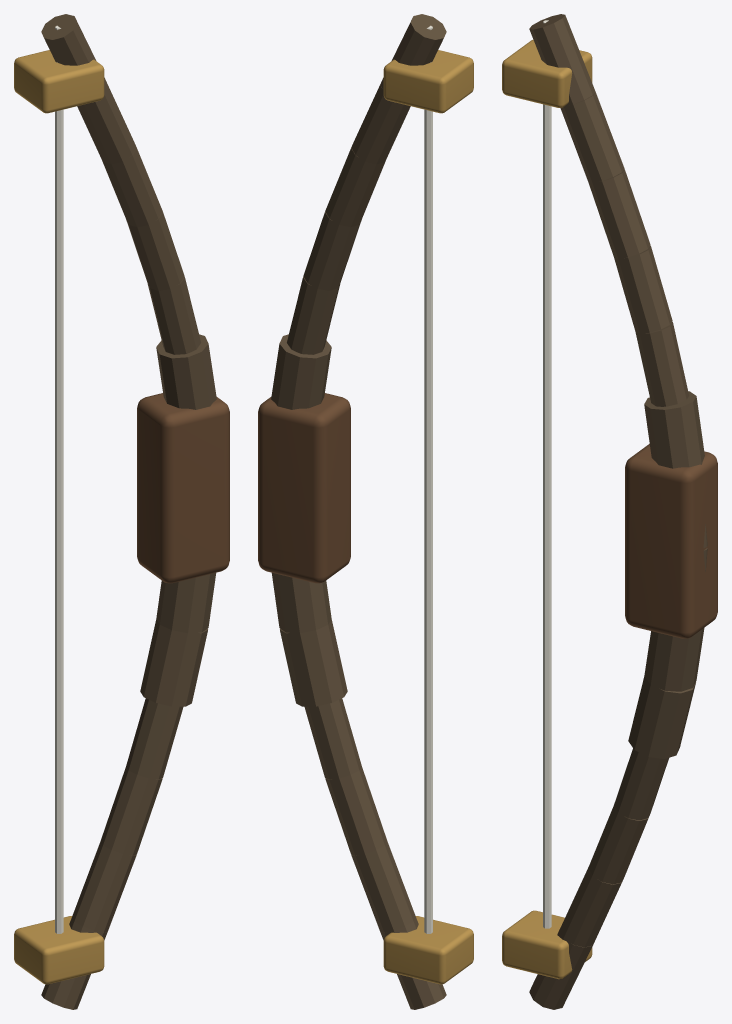
Rendered from SM_HunterBow.fbx.
3 views of the same model, side by side, from view 1: azimuth 30°, elevation 25°; view 2: azimuth 150°, elevation 25°; view 3: azimuth 330°, elevation 25° (orthographic).
Visible parts, largest first — view 1: Grip_wrap, Bowstring, Brass_nock, Brass_nock.001, Recurved_limb.004, Recurved_limb.001, Recurved_limb.002, Recurved_limb.008, Recurved_limb.003, Recurved_limb.005, Recurved_limb.009, Recurved_limb.010 (+4 smaller); view 2: Grip_wrap, Bowstring, Brass_nock, Brass_nock.001, Recurved_limb.004, Recurved_limb.001, Recurved_limb.002, Recurved_limb.008, Recurved_limb.003, Recurved_limb.005, Recurved_limb.009, Recurved_limb.010 (+4 smaller); view 3: Grip_wrap, Bowstring, Recurved_limb.004, Brass_nock, Recurved_limb.008, Brass_nock.001, Recurved_limb.012, Recurved_limb.011, Recurved_limb.010, Recurved_limb.009, Recurved_limb.005, Recurved_limb.013 (+4 smaller).
Boxes of the visible parts, box(x1,y1,x2,y2) form: Grip_wrap: box(137, 393, 229, 583); Bowstring: box(55, 25, 63, 933); Brass_nock: box(14, 916, 104, 984); Brass_nock.001: box(14, 50, 104, 113); Recurved_limb.004: box(140, 619, 207, 706); Recurved_limb.001: box(71, 842, 136, 932); Recurved_limb.002: box(100, 767, 162, 855); Recurved_limb.008: box(156, 334, 216, 409); Recurved_limb.003: box(126, 698, 183, 779); Recurved_limb.005: box(156, 572, 216, 633); Recurved_limb.009: box(147, 277, 200, 354); Recurved_limb.010: box(126, 211, 184, 290); Grip_wrap: box(258, 393, 350, 583); Bowstring: box(424, 25, 432, 933); Brass_nock: box(383, 916, 473, 984); Brass_nock.001: box(383, 50, 473, 113); Recurved_limb.004: box(280, 619, 347, 706); Recurved_limb.001: box(351, 842, 416, 932); Recurved_limb.002: box(325, 767, 387, 855); Recurved_limb.008: box(271, 334, 331, 409); Recurved_limb.003: box(304, 698, 361, 779); Recurved_limb.005: box(271, 572, 331, 633); Recurved_limb.009: box(287, 277, 340, 354); Recurved_limb.010: box(303, 211, 361, 290); Grip_wrap: box(625, 444, 717, 638); Bowstring: box(543, 20, 551, 928); Recurved_limb.004: box(628, 676, 695, 758); Brass_nock: box(502, 910, 592, 979); Recurved_limb.008: box(644, 391, 704, 468); Brass_nock.001: box(502, 39, 592, 107); Recurved_limb.012: box(560, 92, 624, 182); Recurved_limb.011: box(588, 169, 650, 258); Recurved_limb.010: box(614, 246, 672, 333); Recurved_limb.009: box(635, 322, 689, 406); Recurved_limb.005: box(644, 628, 704, 691); Recurved_limb.013: box(529, 14, 595, 106).
Bounding box in the file's own units: 30.7 × 9 × 152.
